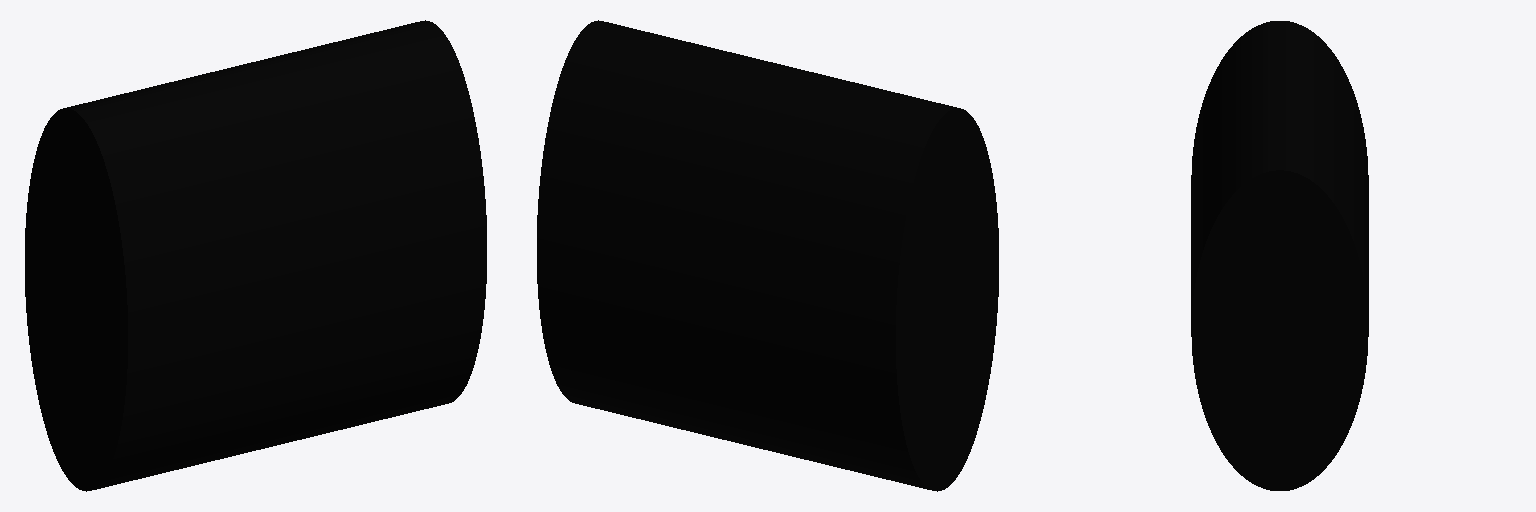
The robot description file, URDF, robot "luxtac_ellipse_horz":
<?xml version="1.0"?>
<!-- ellipse, long axis at 90 deg in the pad plane.
     Generated by scripts/make_luxtac_objs.py. Metres, centred on x,y, cross-section
     centre at z = 0.0452 (the pad centre once staged). Long axis at 90 deg in
     the x-z plane: 0 = along the finger, 90 = across it. Length 40mm,
     mass 1.500000 kg.

     The link is named 'cube' because TacSL resolves the indenter link by name. -->
<robot name="luxtac_ellipse_horz">
    <link name="cube">
        <visual>
            <geometry><mesh filename="../mesh/luxtac_ellipse_horz.obj"/></geometry>
            <material name="black"><color rgba="0.05 0.05 0.05 1"/></material>
        </visual>
        <collision>
            <geometry><mesh filename="../mesh/luxtac_ellipse_horz.obj"/></geometry>
            <sdf resolution="256"/>  <!-- 0.156mm voxels -->
        </collision>
        <inertial>
            <origin rpy="0 0 0" xyz="0 0 0.0452"/>
            <mass value="1.500000"/>
            <inertia ixx="1.873662e-04" ixy="0" ixz="0" iyy="3.498929e-04" iyz="0" izz="2.374732e-04"/>
        </inertial>
    </link>
</robot>

--- Facts derived from the render (not from the file) ---
The picture shows the robot from 3 angles, left to right: view 1: azimuth 30°, elevation 25°; view 2: azimuth 150°, elevation 25°; view 3: azimuth 270°, elevation 25°; orthographic projection.
Robot: luxtac_ellipse_horz — 1 links, 0 joints (none); root link cube; default pose: all joints at 0.
Visible links, largest first — view 1: cube; view 2: cube; view 3: cube.
Link boxes in pixels (x1,y1,x2,y2): cube: (25,20,486,491); cube: (537,20,998,491); cube: (1191,21,1368,490).
Bounding box of the posed robot: 0.04 × 0.02 × 0.04 m (x, y, z).
1 mesh visuals loaded from 1 distinct referenced files (1 OBJ).
